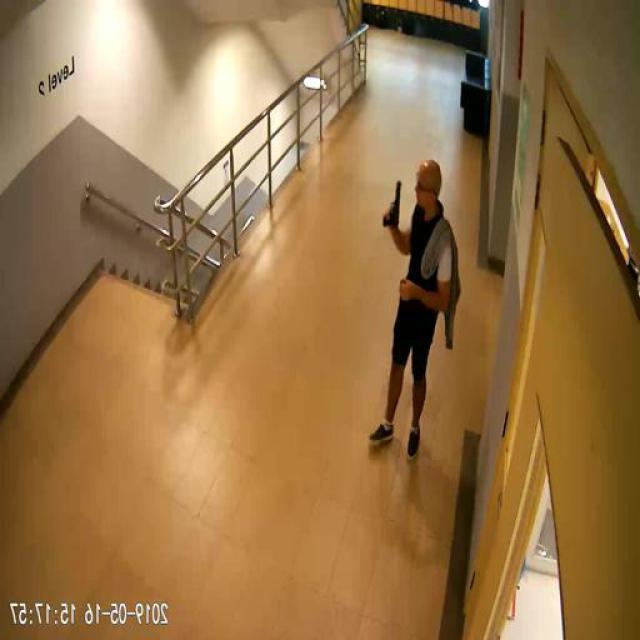Gun: (385, 178, 404, 228)
